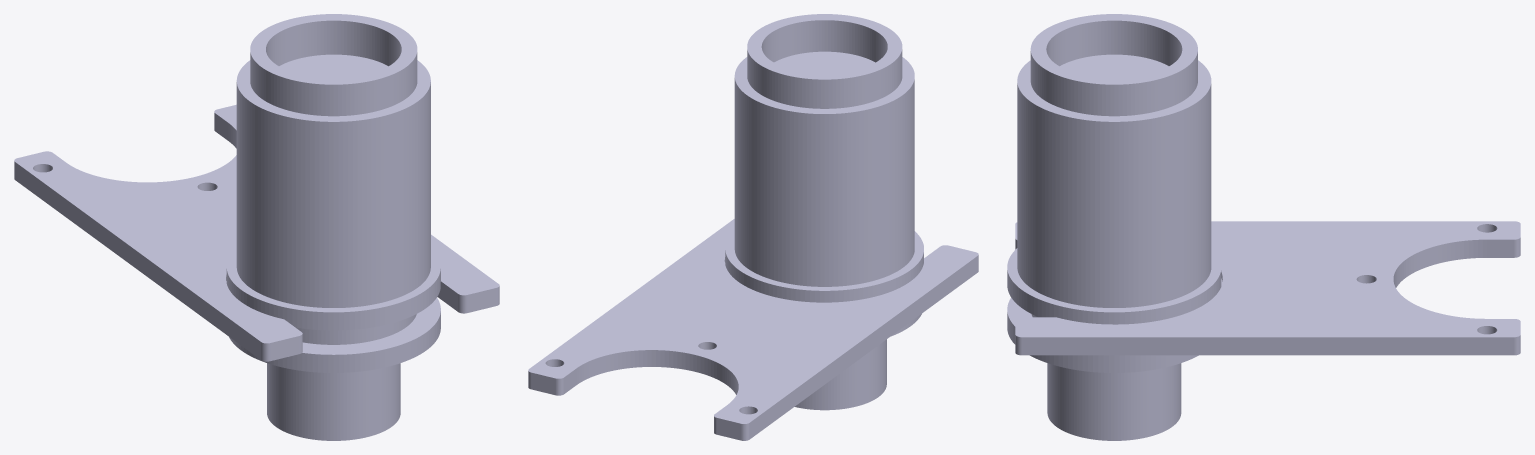
File: battery_cell_jig_assembly.dae
3 renders of one model, left to right at view 1: azimuth 30°, elevation 25°; view 2: azimuth 150°, elevation 25°; view 3: azimuth 270°, elevation 25°, orthographic. The views are drawn at different scales.
Parts seen in each view (by area): view 1: node0; view 2: node0; view 3: node0.
Boxes of the visible parts, left/top/right/bottom form: node0: left=14, top=14, right=499, bottom=440; node0: left=528, top=14, right=978, bottom=440; node0: left=1007, top=14, right=1520, bottom=440.
Bounding box in the file's own units: 0.041 × 0.0767 × 0.0599.
